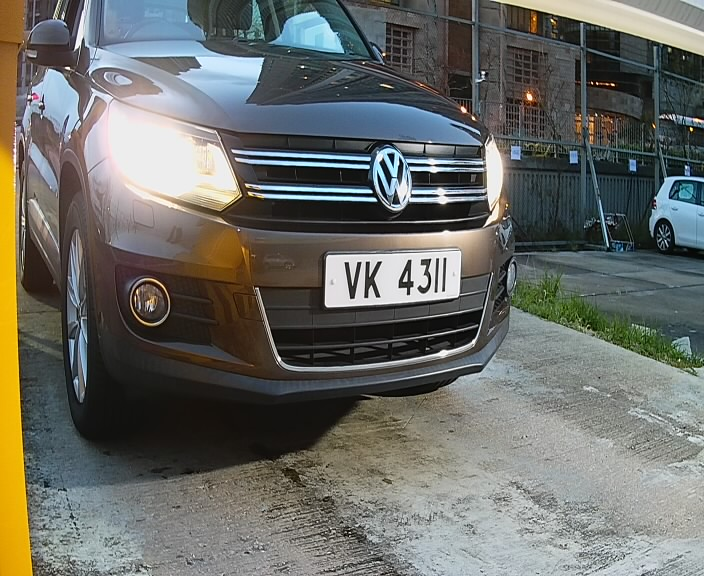License Plate: (316, 236, 466, 314)
